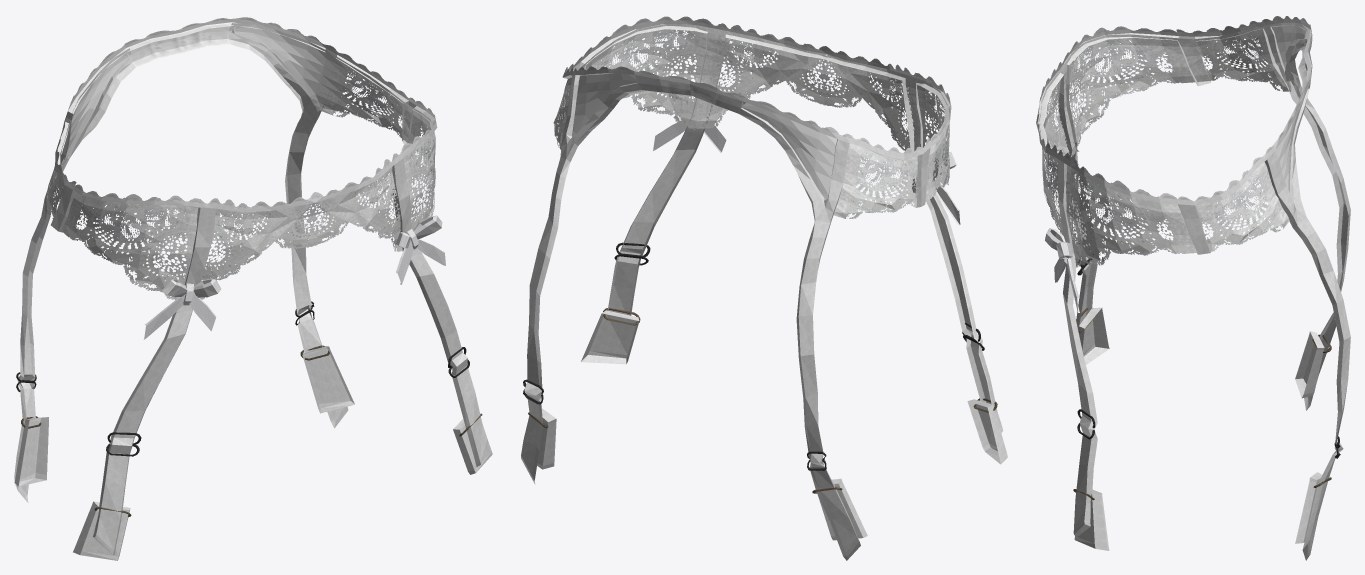
Rendered from mhw_punkduck_french_lingerie_suspender_belt.glb.
3 views of the same model, side by side, from view 1: azimuth 30°, elevation 25°; view 2: azimuth 150°, elevation 25°; view 3: azimuth 270°, elevation 25° (orthographic).
Visible parts, largest first — view 1: mhw_punkduck_french_lingerie_suspender_belt; view 2: mhw_punkduck_french_lingerie_suspender_belt; view 3: mhw_punkduck_french_lingerie_suspender_belt.
Part boxes in pixels (x1,y1,x2,y2): mhw_punkduck_french_lingerie_suspender_belt: [14, 17, 492, 560]; mhw_punkduck_french_lingerie_suspender_belt: [521, 16, 1007, 560]; mhw_punkduck_french_lingerie_suspender_belt: [1036, 16, 1350, 560].
Size of the model in its own units: 0.3635 by 0.3695 by 0.2392.
1 material, 1 textured.
